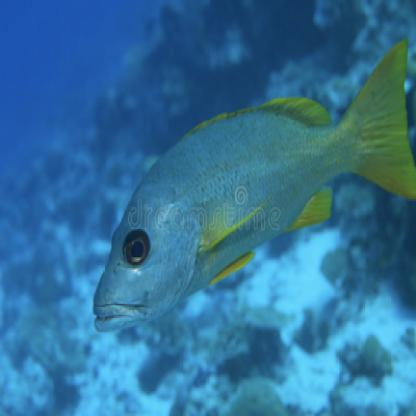snapper: (88, 29, 416, 339)
